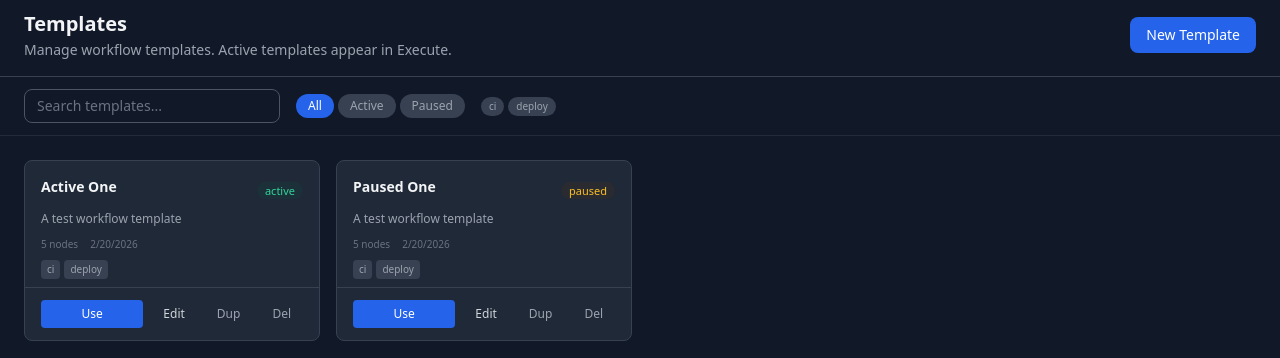
Test case: TemplateManagerPage › status filter › shows all templates when "All" is clicked after filtering
The width and height of the screenshot is (1280, 358).
Check: the heading "Active One" is shown, box [41,177,117,196]
# Filter to Active only
Step 1. Click the button "Active" → (367, 106), box [338,94,396,118]
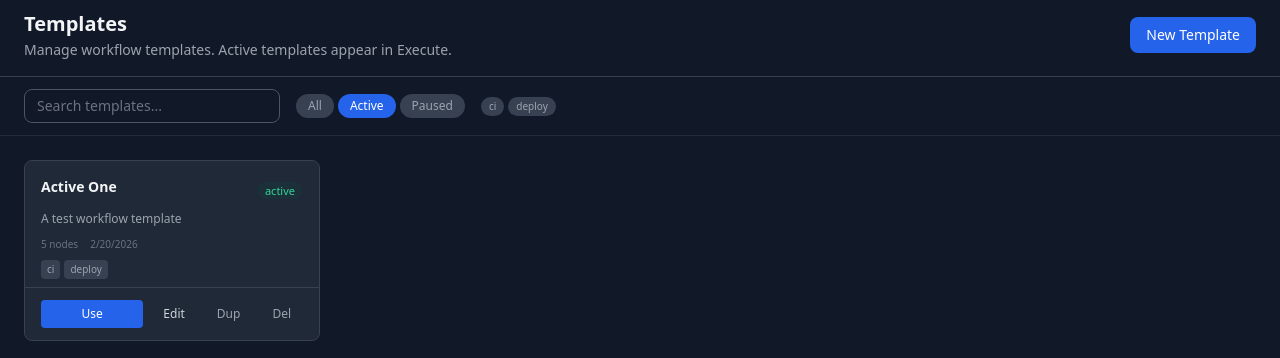
Check: the heading "Paused One" is gone
# Click All to reset
Step 2. Click the button "All" → (315, 106), box [296,94,334,118]
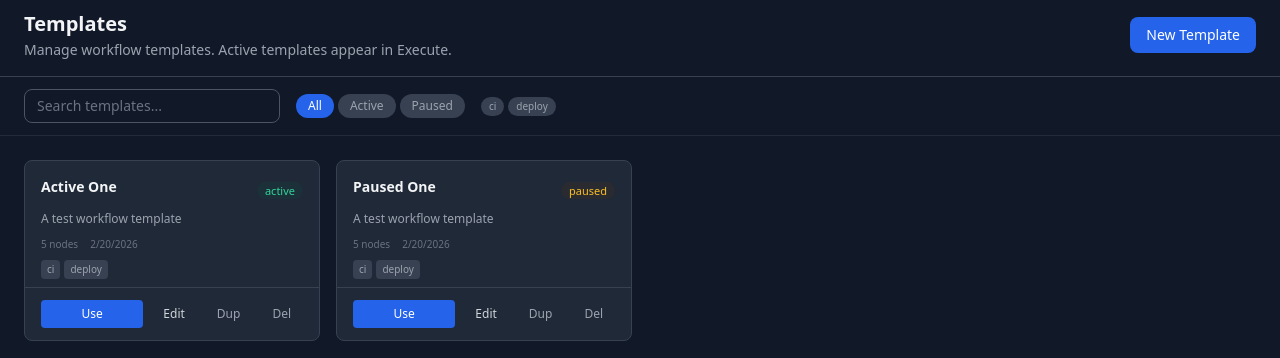
Check: the heading "Active One" is shown, box [41,177,117,196]
Check: the heading "Paused One" is shown, box [353,177,436,196]
